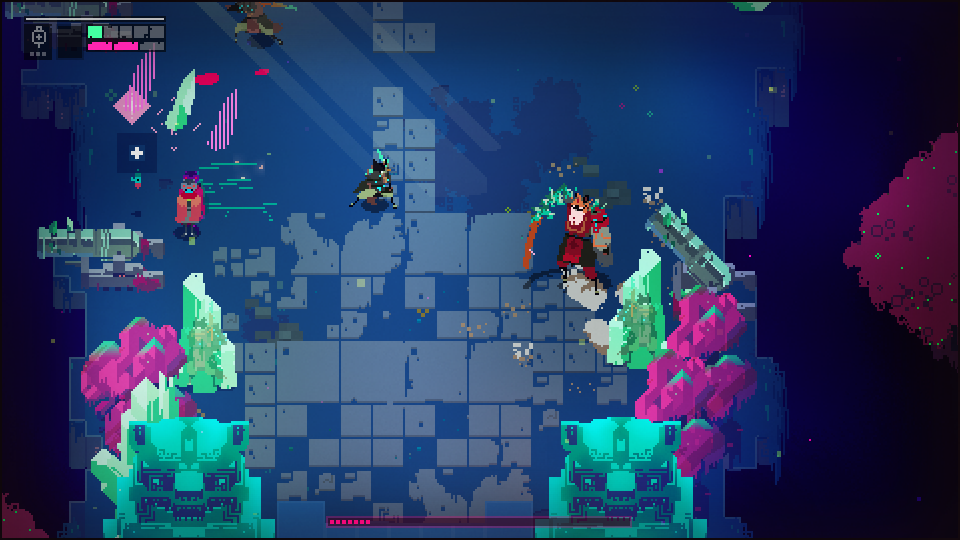hanged_crys: (152, 68, 203, 157), (111, 40, 156, 124), (201, 86, 245, 157)
hanged_man: (519, 181, 618, 292)
player: (174, 171, 205, 242)
